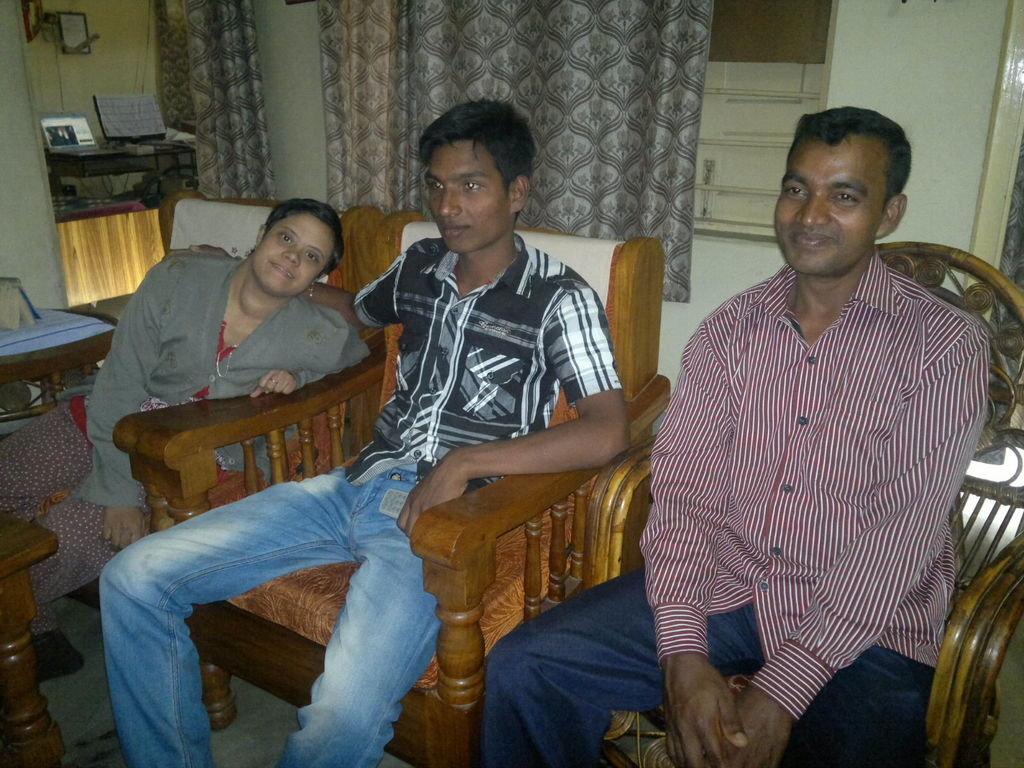Human_hand: (696, 691, 793, 767), (392, 455, 469, 541), (101, 507, 148, 554), (250, 368, 298, 400)
